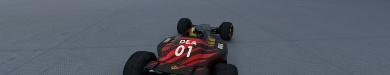Car: (122, 17, 238, 74)
grass: (0, 0, 389, 74)
